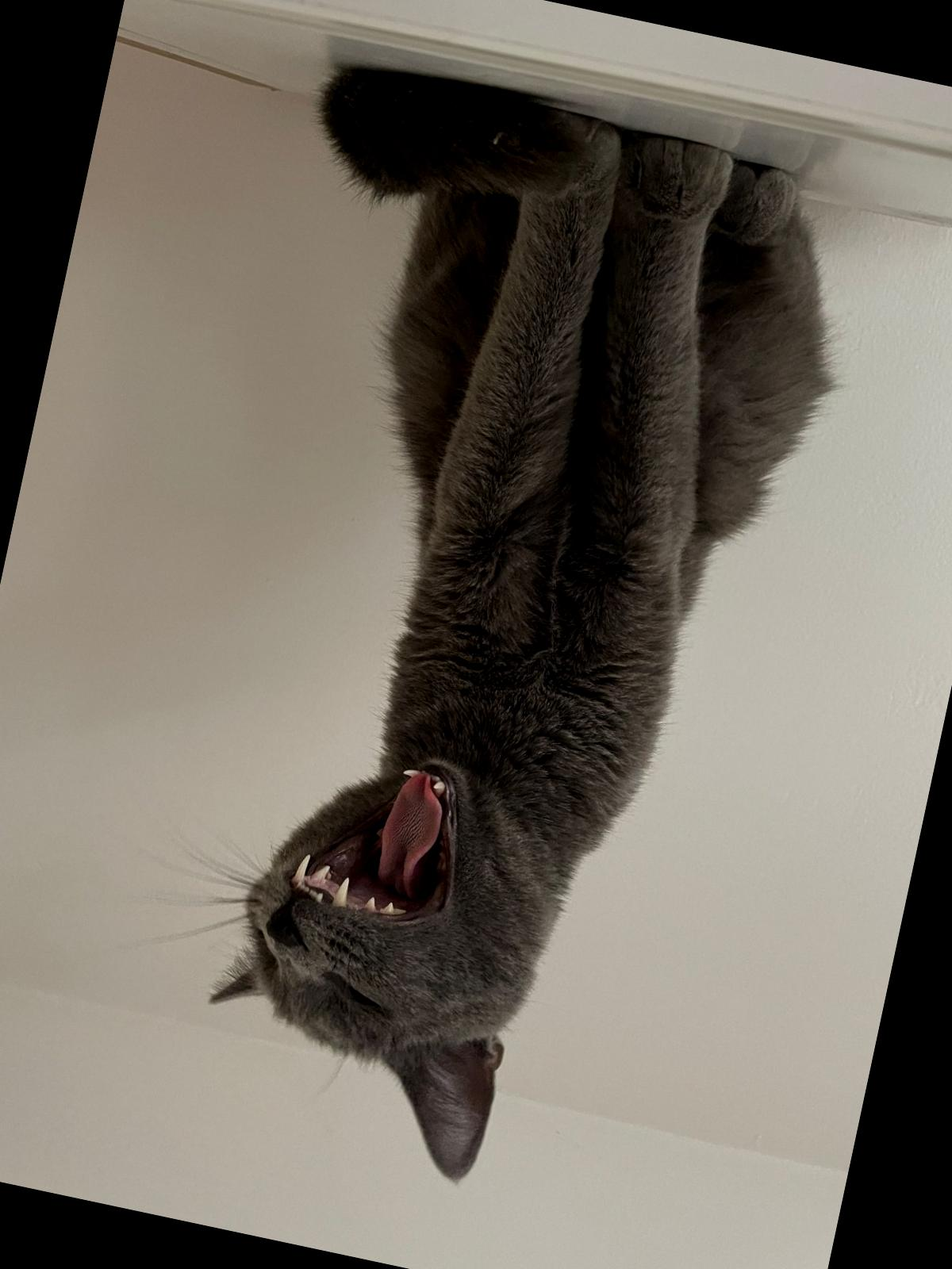macka: (109, 52, 875, 1230)
